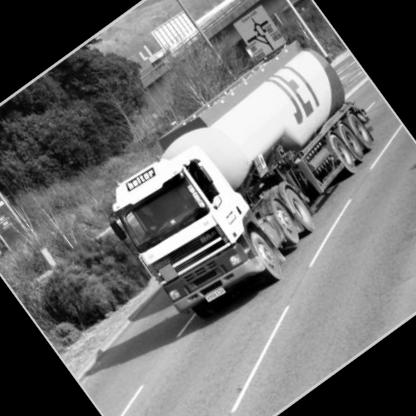truck: (61, 1, 416, 349)
